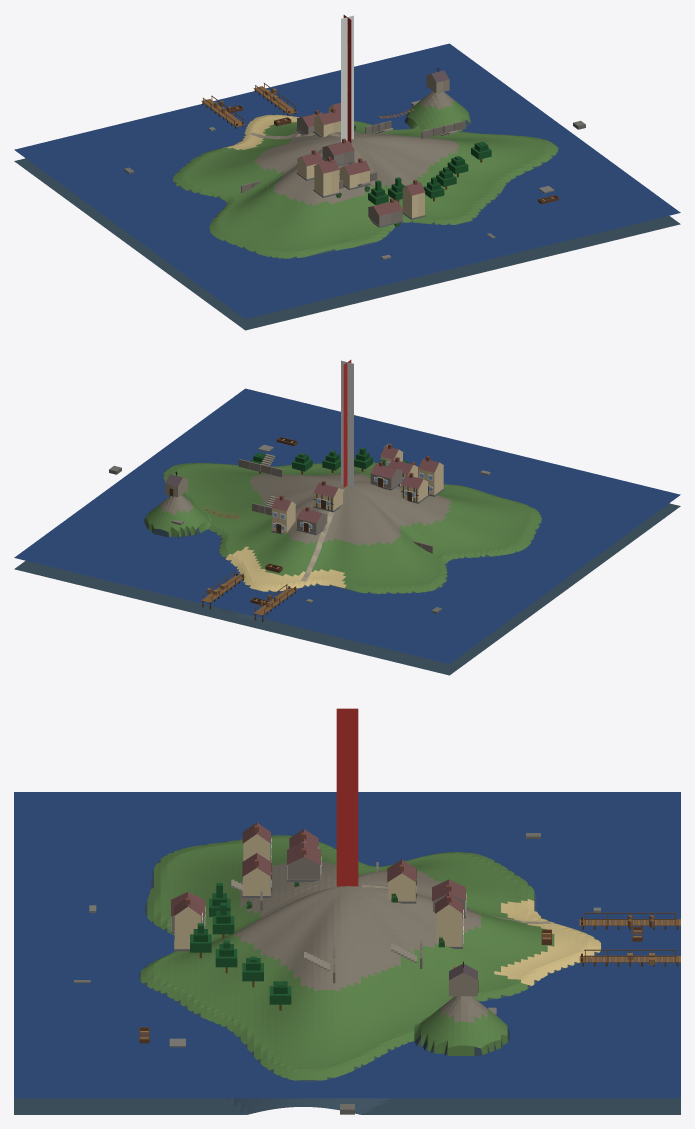
File: scene_good_v4.obj
3 views of the same model, one above another, from view 1: azimuth 30°, elevation 25°; view 2: azimuth 150°, elevation 25°; view 3: azimuth 270°, elevation 25° (orthographic). The views are drawn at different scales.
Parts seen in each view (by area): view 1: water, terrain, lighthouse_tower, house_3_two_story, house_9_two_story, house_8_stone, house_4_timber, house_2_stone, house_7_timber, house_1_timber; view 2: water, terrain, lighthouse_tower, house_6_two_story, house_3_two_story, house_7_timber, house_2_stone, house_5_stone, house_1_timber, wall_2, pier_1; view 3: water, terrain, lighthouse_tower, house_6_two_story, house_2_stone, house_4_timber, house_9_two_story, house_7_timber, pier_2, pier_1, house_3_two_story, chapel_1 (+1 smaller).
Boxes of the visible parts, x1,y1,x2,y2 form: water: [14, 43, 680, 318]; terrain: [14, 91, 680, 330]; lighthouse_tower: [341, 15, 353, 142]; house_3_two_story: [313, 157, 339, 197]; house_9_two_story: [402, 179, 425, 219]; house_8_stone: [368, 198, 403, 227]; house_4_timber: [339, 158, 370, 189]; house_2_stone: [322, 138, 354, 166]; house_7_timber: [313, 108, 340, 137]; house_1_timber: [296, 150, 323, 180]; water: [14, 388, 680, 663]; terrain: [14, 462, 680, 675]; lighthouse_tower: [341, 360, 353, 487]; house_6_two_story: [271, 495, 295, 534]; house_3_two_story: [418, 456, 444, 496]; house_7_timber: [313, 480, 343, 512]; house_2_stone: [370, 461, 402, 490]; house_5_stone: [296, 506, 327, 535]; house_1_timber: [401, 472, 428, 503]; wall_2: [238, 454, 282, 477]; pier_1: [253, 584, 297, 621]; water: [14, 792, 680, 1098]; terrain: [14, 835, 680, 1114]; lighthouse_tower: [336, 708, 358, 886]; house_6_two_story: [435, 894, 463, 948]; house_2_stone: [287, 842, 321, 881]; house_4_timber: [242, 853, 271, 897]; house_9_two_story: [174, 897, 202, 951]; house_7_timber: [387, 859, 416, 903]; pier_2: [579, 949, 680, 966]; pier_1: [579, 912, 680, 929]; house_3_two_story: [242, 822, 271, 878]; chapel_1: [449, 961, 478, 996].
Bounding box in the file's own units: 104 × 38.5 × 92.
